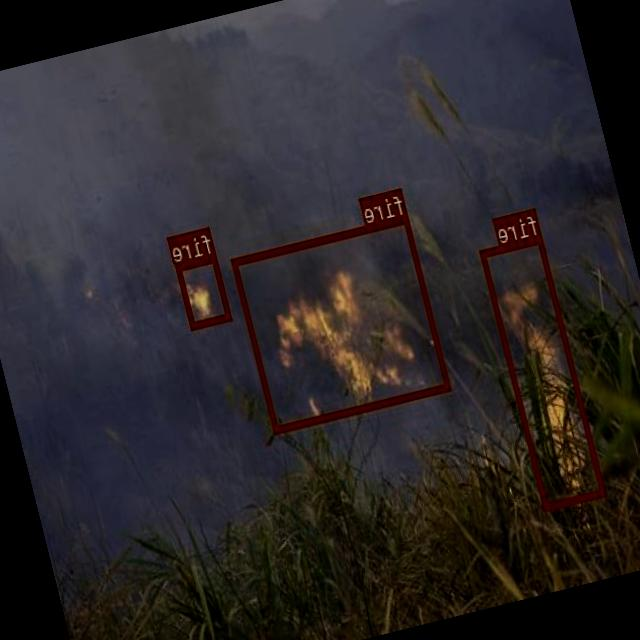fire: (232, 213, 452, 432), (479, 232, 606, 510), (175, 252, 232, 328)
